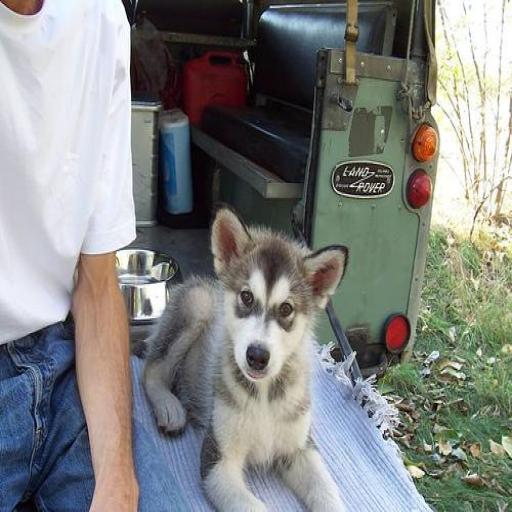dog_face: (208, 207, 340, 377)
